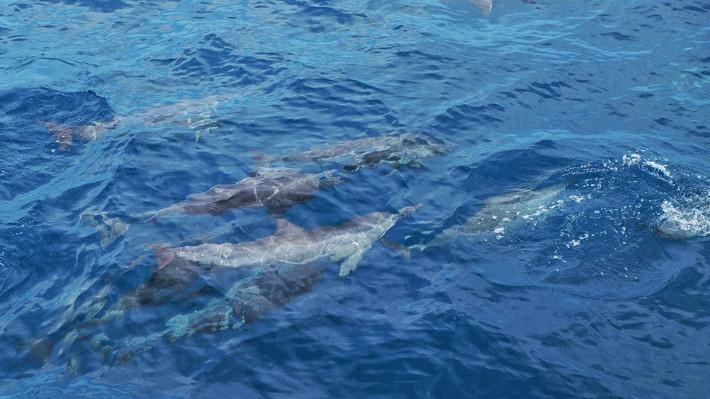fish: (67, 196, 422, 344), (81, 147, 349, 245)
